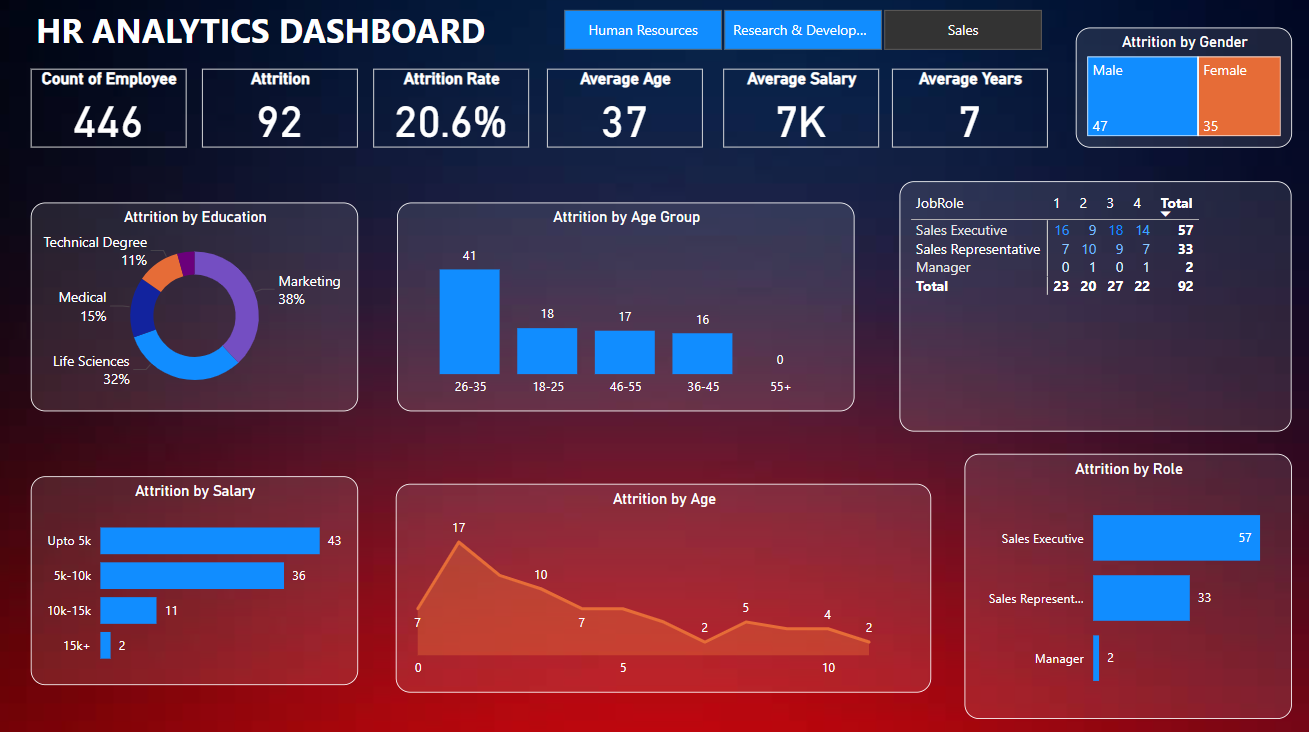

This screenshot's page, from the dashboard's own definition file:
{"tool":"powerbi","page":{"name":"Page 1","canvas":[1280,720],"ordinal":0},"visuals":[{"type":"card","title":"Count of Employee","fields":{"Values":["CountNonNull(HR_Analytics.EmpID)"]},"box":[37.4,71.1,150,75.7],"z":0},{"type":"card","title":"Attrition","fields":{"Values":["Sum(HR_Analytics.AttritionCount)"]},"box":[203.1,71.1,150,75.7],"z":1000},{"type":"card","title":"Attrition Rate","fields":{"Values":["HR_Analytics.AttritionRate"]},"box":[367.4,71.1,150,75.7],"z":2000},{"type":"card","title":"Average Age","fields":{"Values":["HR_Analytics.AverageAge"]},"box":[536,71.1,150,75.7],"z":3000},{"type":"card","title":"Average Salary","fields":{"Values":["HR_Analytics.AverageSalary"]},"box":[706,71.1,150,75.7],"z":4000},{"type":"card","title":"Average Years","fields":{"Values":["Avg(HR_Analytics.YearsAtCompany)"]},"box":[868.9,71.1,150,75.7],"z":5000},{"type":"donutChart","title":"Attrition by Education","fields":{"Category":["HR_Analytics.EducationField"],"Y":["Sum(HR_Analytics.AttritionCount)"]},"box":[37.4,199.7,315.7,201.4],"z":6000},{"type":"columnChart","title":"Attrition by Age Group","fields":{"Category":["HR_Analytics.AgeGroup"],"Y":["Sum(HR_Analytics.AttritionCount)"]},"box":[391.4,200,441.4,201.4],"z":7000},{"type":"pivotTable","title":"Job Satisfaction","fields":{"Rows":["HR_Analytics.JobRole"],"Columns":["HR_Analytics.JobSatisfaction"],"Values":["Sum(HR_Analytics.AttritionCount)"]},"box":[875.7,180,378.6,241.4],"z":8000},{"type":"barChart","title":"Attrition by Salary","fields":{"Category":["HR_Analytics.SalarySlab"],"Y":["Sum(HR_Analytics.AttritionCount)"]},"box":[37.1,464.3,315.7,201.4],"z":9000},{"type":"barChart","title":"Attrition by Role","fields":{"Y":["Sum(HR_Analytics.AttritionCount)"],"Category":["HR_Analytics.JobRole"]},"box":[938.6,442.9,315.7,255.7],"z":10000},{"type":"areaChart","title":"Attrition by Age","fields":{"Category":["HR_Analytics.YearsAtCompany"],"Y":["Sum(HR_Analytics.AttritionCount)"]},"box":[390,471.4,517.1,201.4],"z":11000},{"type":"treemap","title":"Attrition by Gender","fields":{"Group":["HR_Analytics.Gender"],"Values":["Sum(HR_Analytics.AttritionCount)"]},"box":[1045.7,31.4,208.6,115.7],"z":12000},{"type":"slicer","fields":{"Values":["HR_Analytics.Department"]},"box":[525.7,7.1,511.4,52.9],"z":13000},{"type":"textbox","box":[37.1,7.1,705.7,60],"z":13001}]}

Visuals, with their boxes in screenshot pixels (x1, y1, x2, y2), scaled from the page's 1280x720 canvas onto the 1309x732 screenshot:
"Count of Employee" card: (left=38, top=72, right=192, bottom=149)
"Attrition" card: (left=208, top=72, right=361, bottom=149)
"Attrition Rate" card: (left=376, top=72, right=529, bottom=149)
"Average Age" card: (left=548, top=72, right=702, bottom=149)
"Average Salary" card: (left=722, top=72, right=875, bottom=149)
"Average Years" card: (left=889, top=72, right=1042, bottom=149)
"Attrition by Education" donutChart: (left=38, top=203, right=361, bottom=408)
"Attrition by Age Group" columnChart: (left=400, top=203, right=852, bottom=408)
"Job Satisfaction" pivotTable: (left=896, top=183, right=1283, bottom=428)
"Attrition by Salary" barChart: (left=38, top=472, right=361, bottom=677)
"Attrition by Role" barChart: (left=960, top=450, right=1283, bottom=710)
"Attrition by Age" areaChart: (left=399, top=479, right=928, bottom=684)
"Attrition by Gender" treemap: (left=1069, top=32, right=1283, bottom=150)
slicer - HR_Analytics.Department: (left=538, top=7, right=1061, bottom=61)
textbox: (left=38, top=7, right=760, bottom=68)
